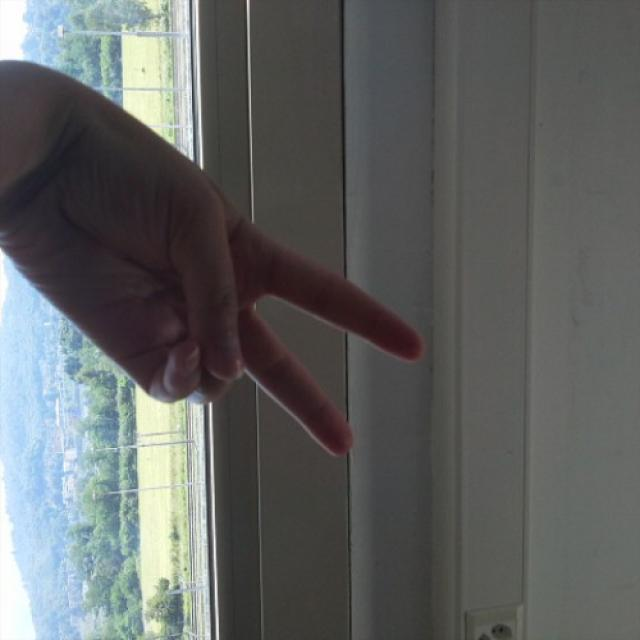scissors: (126, 117, 427, 460)
